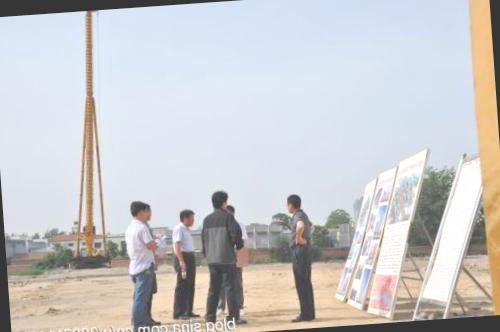no_helmet: (124, 198, 153, 223), (206, 188, 232, 214), (176, 205, 196, 230), (283, 190, 302, 214)
